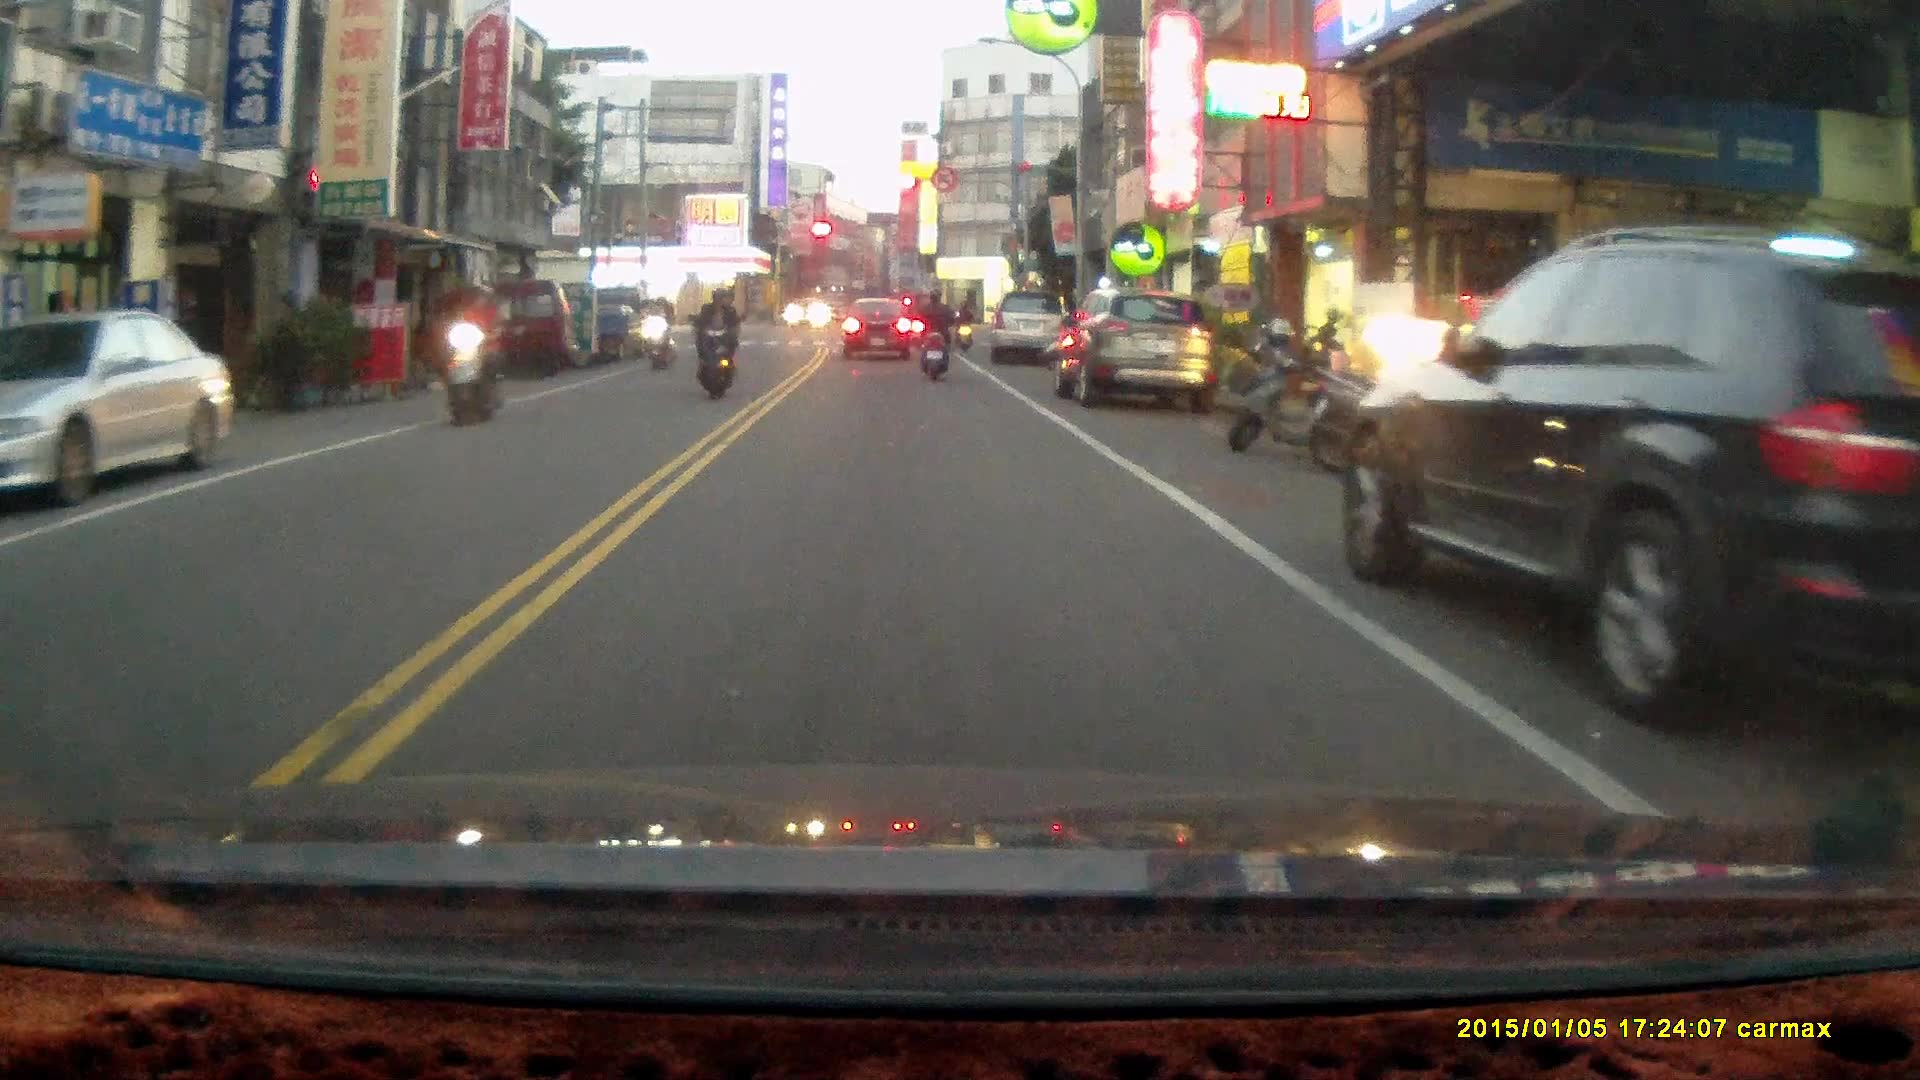rider: (443, 282, 508, 424), (691, 281, 736, 400), (912, 285, 953, 383), (641, 291, 675, 373), (953, 295, 975, 351)
vehicle: (1337, 231, 1920, 762), (1, 312, 240, 508), (1053, 287, 1214, 407), (417, 279, 582, 383), (995, 285, 1074, 363)
